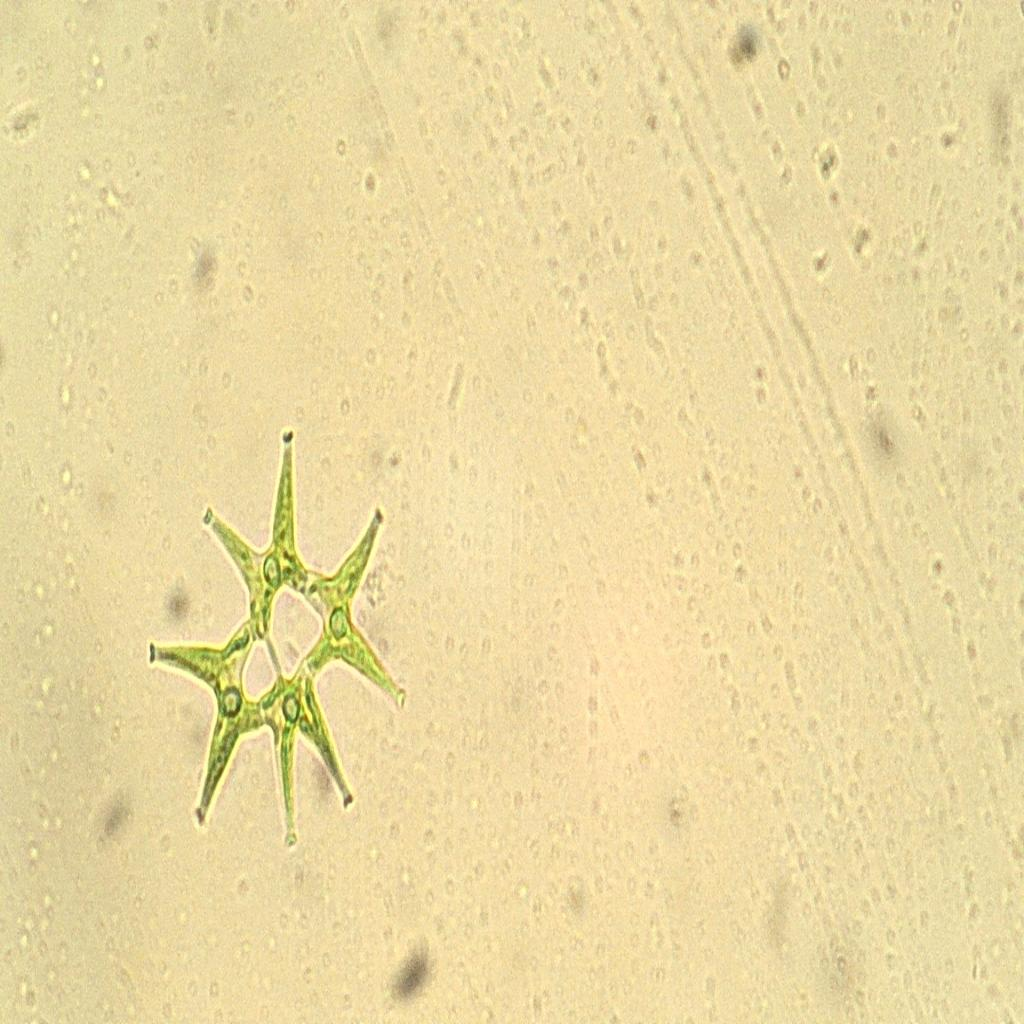Pediastrum_CF: (128, 415, 438, 859)
